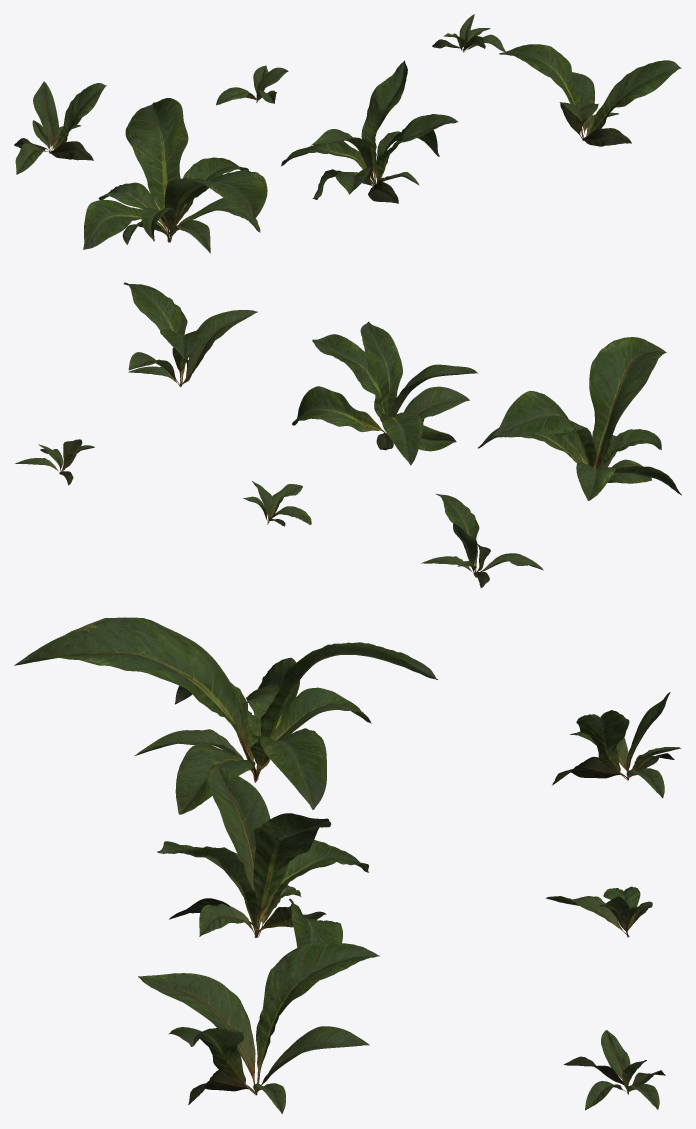
The model's file is anthurium_botany_01_1k.gltf.
The picture shows the model from 3 angles, top to bottom: view 1: azimuth 30°, elevation 25°; view 2: azimuth 150°, elevation 25°; view 3: azimuth 270°, elevation 25°; orthographic projection. The views are drawn at different scales.
Parts seen in each view (by area): view 1: anthurium_botany_01_a, anthurium_botany_01_b, anthurium_botany_01_c, anthurium_botany_04_d, anthurium_botany_05_e, anthurium_botany_06_f; view 2: anthurium_botany_01_a, anthurium_botany_01_b, anthurium_botany_01_c, anthurium_botany_04_d, anthurium_botany_05_e, anthurium_botany_06_f; view 3: anthurium_botany_01_a, anthurium_botany_01_b, anthurium_botany_01_c, anthurium_botany_04_d, anthurium_botany_06_f, anthurium_botany_05_e.
Boxes of the visible parts, x1=… form: anthurium_botany_01_a: x1=83, y1=98, x2=267, y2=253; anthurium_botany_01_b: x1=281, y1=60, x2=457, y2=203; anthurium_botany_01_c: x1=499, y1=44, x2=681, y2=146; anthurium_botany_04_d: x1=14, y1=81, x2=106, y2=174; anthurium_botany_05_e: x1=216, y1=65, x2=288, y2=105; anthurium_botany_06_f: x1=432, y1=14, x2=505, y2=52; anthurium_botany_01_a: x1=478, y1=337, x2=681, y2=500; anthurium_botany_01_b: x1=292, y1=321, x2=477, y2=465; anthurium_botany_01_c: x1=123, y1=282, x2=257, y2=386; anthurium_botany_04_d: x1=421, y1=494, x2=543, y2=588; anthurium_botany_05_e: x1=243, y1=481, x2=311, y2=526; anthurium_botany_06_f: x1=15, y1=439, x2=94, y2=485; anthurium_botany_01_a: x1=14, y1=617, x2=437, y2=814; anthurium_botany_01_b: x1=157, y1=763, x2=368, y2=981; anthurium_botany_01_c: x1=138, y1=942, x2=379, y2=1113; anthurium_botany_04_d: x1=552, y1=692, x2=680, y2=798; anthurium_botany_06_f: x1=563, y1=1030, x2=665, y2=1110; anthurium_botany_05_e: x1=545, y1=886, x2=652, y2=937.
Size of the model in its own units: 2.8 by 0.4997 by 1.8.
Materials: 1 (1 with a texture image).
